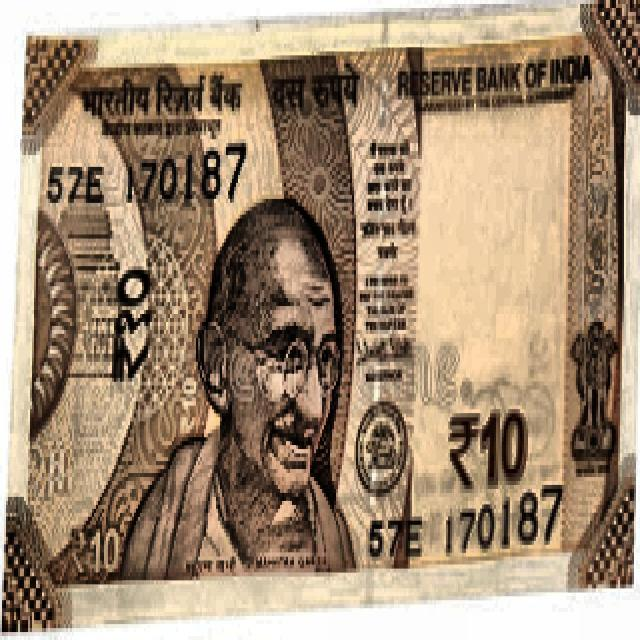-10-: (24, 37, 640, 582)
